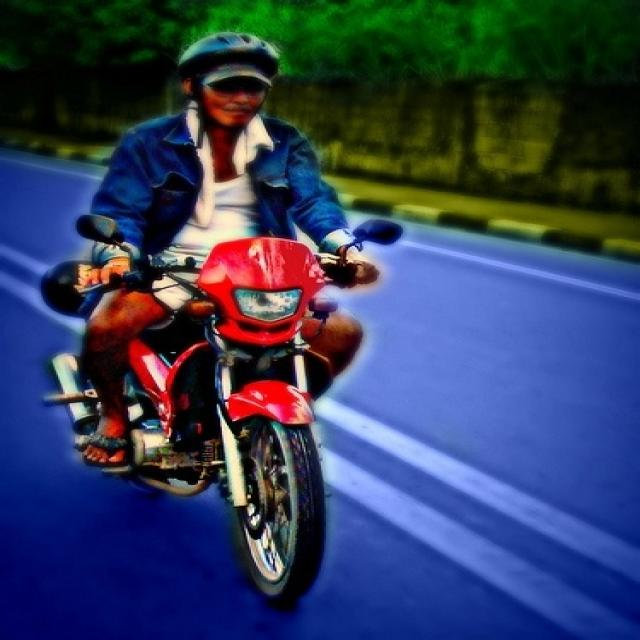scooter: (79, 216, 353, 600)
